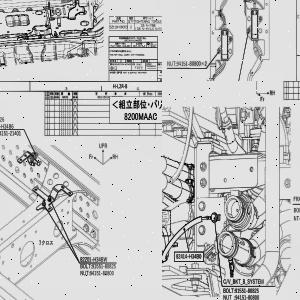PartNumber: (80, 255, 108, 263), (176, 60, 202, 67), (0, 129, 22, 137), (89, 270, 115, 276), (176, 254, 202, 260), (235, 294, 260, 300), (235, 288, 259, 294), (92, 264, 117, 269), (0, 122, 14, 129), (110, 25, 128, 29)
